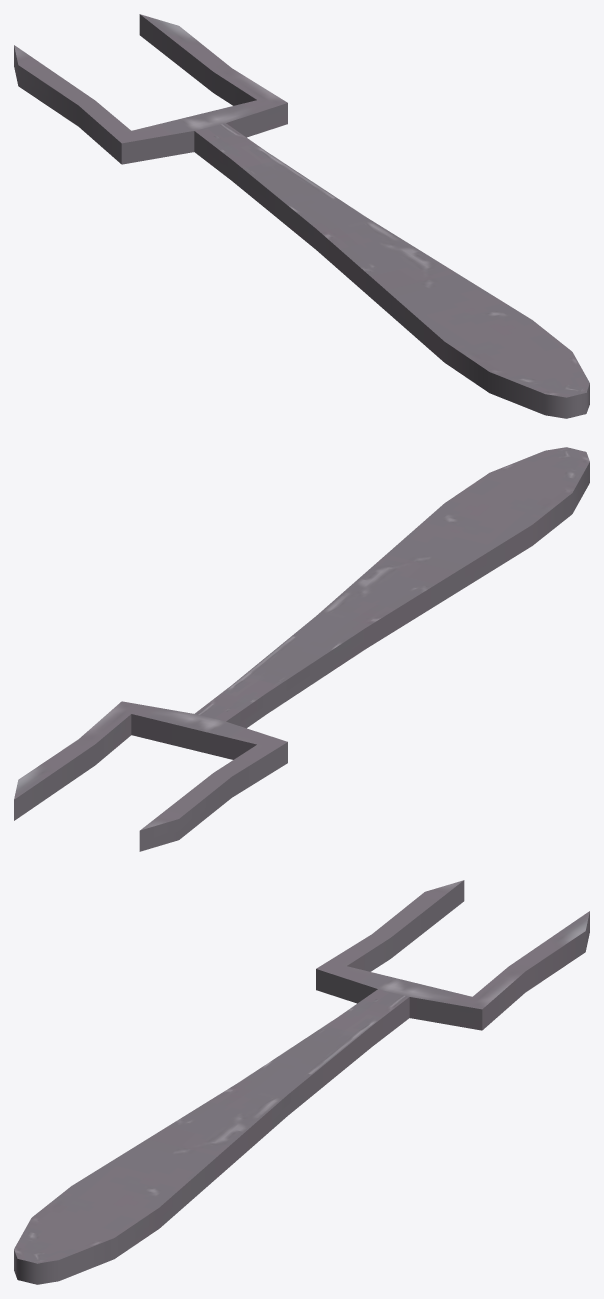
File: Table_Fork.glb
The picture shows the model from 3 angles, top to bottom: view 1: azimuth 30°, elevation 25°; view 2: azimuth 150°, elevation 25°; view 3: azimuth 330°, elevation 25°; orthographic projection.
Visible parts, largest first — view 1: Table_Fork; view 2: Table_Fork; view 3: Table_Fork.
Boxes of the visible parts, left/top/right/bottom form: Table_Fork: left=14, top=14, right=589, bottom=418; Table_Fork: left=14, top=447, right=589, bottom=851; Table_Fork: left=14, top=880, right=589, bottom=1284.
Bounding box in the file's own units: 0.0504 × 0.00615 × 0.2626.
Materials: 1 (1 with a texture image).
